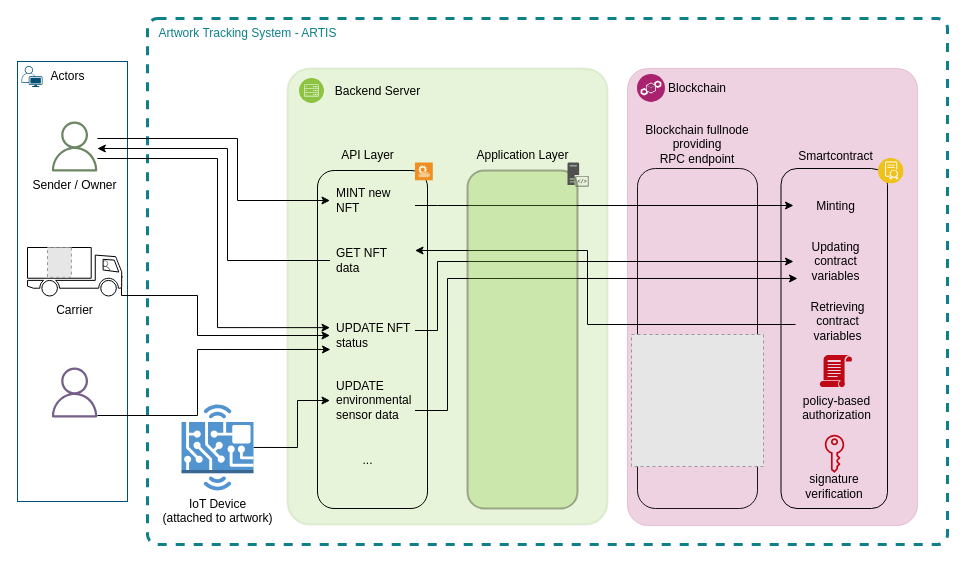
The diagram is 966 pixels wide and 563 high, and some of its shapes have lost their labels. Grey dashed boxes stand in for pictures. Here are the shapes that lost their labels. From the top down, the centre of each, then its label:
At pixel 522 339: "Request processing (encryption, validation, etc...) & Blockchain interaction".
At pixel 74 392: "Recipient".
